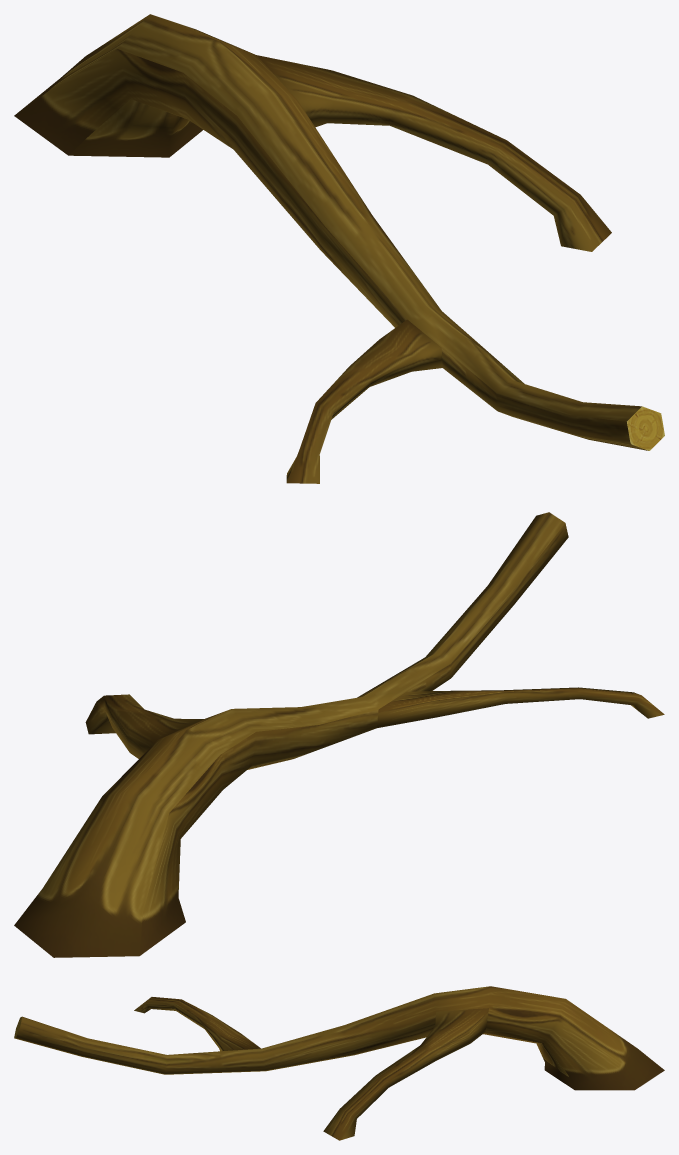
The model's file is glass_006_2.fbx.
The picture shows the model from 3 angles, top to bottom: view 1: azimuth 30°, elevation 25°; view 2: azimuth 150°, elevation 25°; view 3: azimuth 270°, elevation 25°; orthographic projection. The views are drawn at different scales.
Parts seen in each view (by area): view 1: polySurface77; view 2: polySurface77; view 3: polySurface77.
Part boxes in pixels (x1,y1,x2,y2): polySurface77: [14, 14, 664, 483]; polySurface77: [14, 512, 664, 957]; polySurface77: [14, 986, 664, 1140].
Size of the model in its own units: 70.66 by 143 by 21.54.
